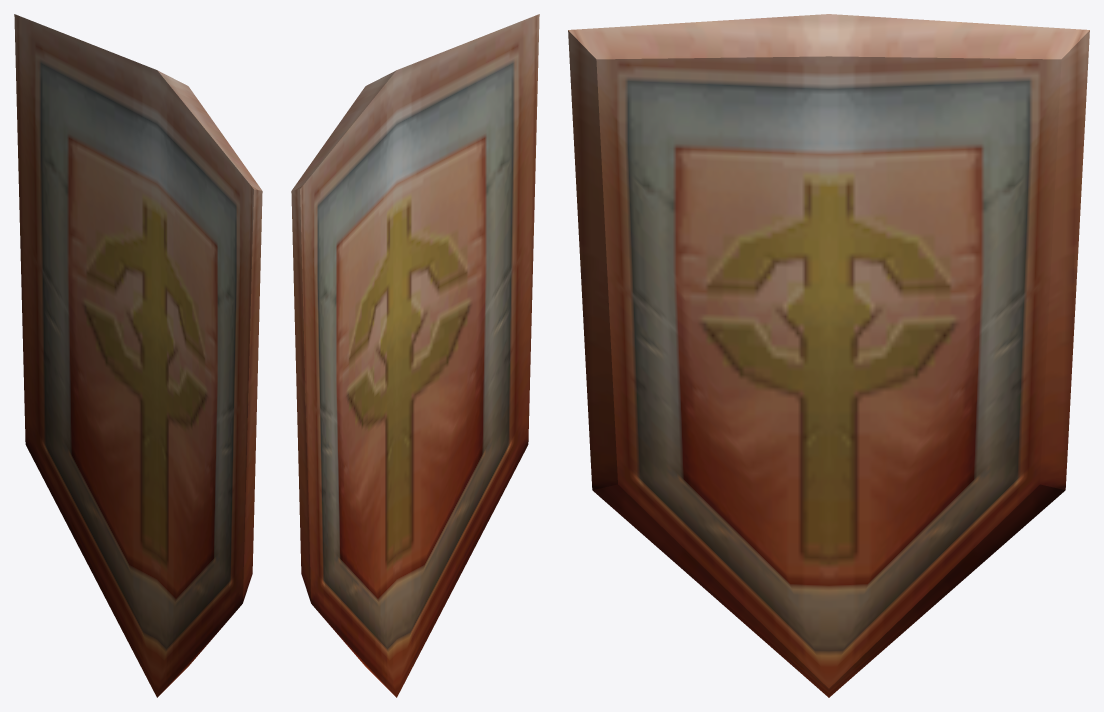
The model's file is crimsonwallshield01.glb.
3 views of the same model, side by side, from view 1: azimuth 30°, elevation 25°; view 2: azimuth 150°, elevation 25°; view 3: azimuth 270°, elevation 25° (orthographic). The views are drawn at different scales.
Size of the model in its own units: 0.0954 by 1.05 by 0.7288.
1 material, 1 textured.
